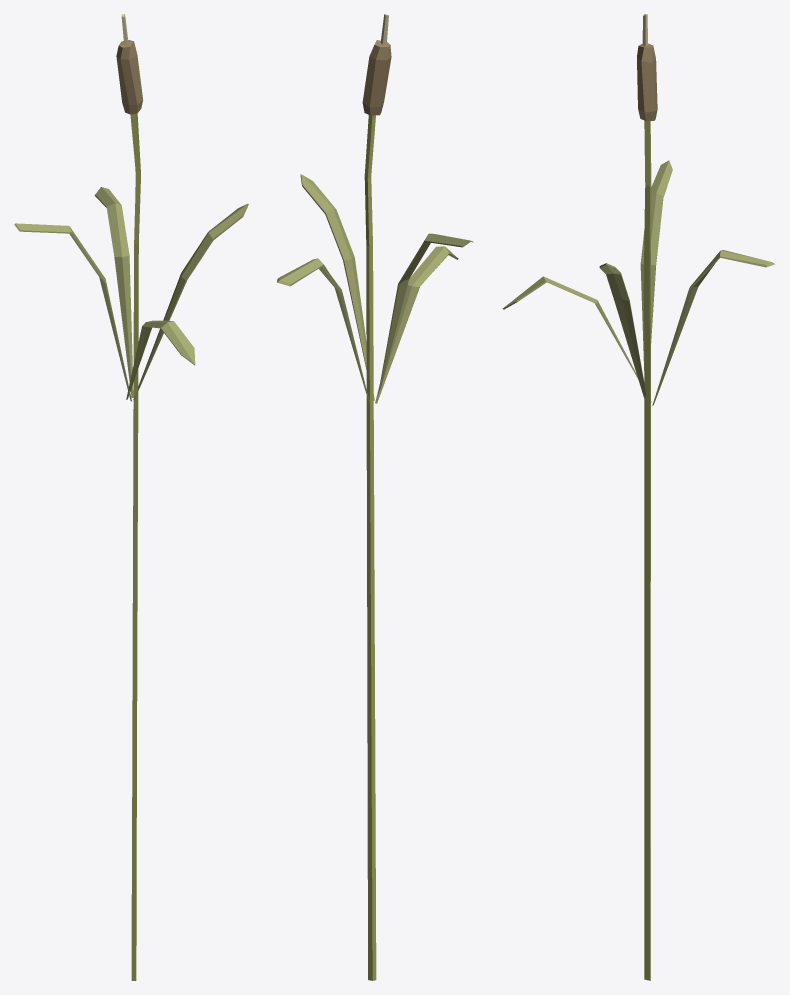
Rendered from Reed_2.fbx.
3 views of the same model, side by side, from view 1: azimuth 30°, elevation 25°; view 2: azimuth 150°, elevation 25°; view 3: azimuth 270°, elevation 25° (orthographic).
Visible parts, largest first — view 1: Reed_2; view 2: Reed_2; view 3: Reed_2.
Boxes of the visible parts, x1,y1,x2,y2 form: Reed_2: (14,14,248,980); Reed_2: (277,14,473,980); Reed_2: (502,14,775,980).
Size of the model in its own units: 0.0272 by 0.1245 by 0.0321.
